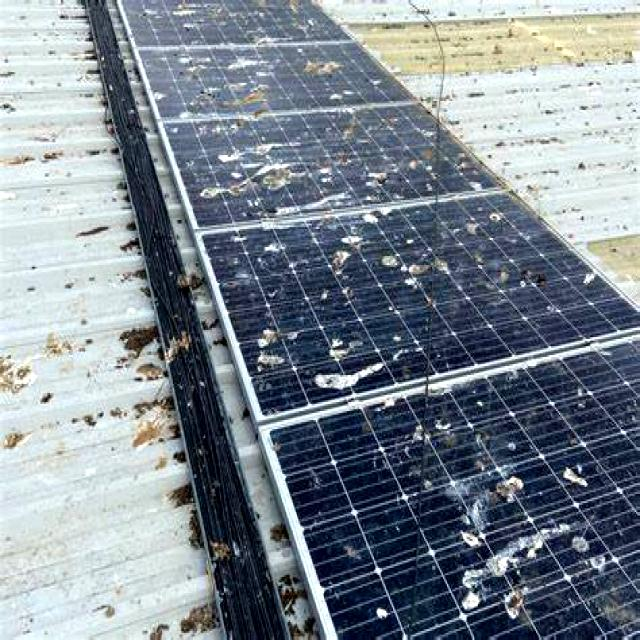bird: (454, 514, 547, 636), (304, 332, 396, 400), (210, 131, 304, 189), (188, 54, 270, 118), (383, 239, 461, 303), (327, 218, 375, 300), (256, 306, 294, 396), (296, 33, 346, 92), (562, 515, 613, 568), (410, 404, 458, 455), (360, 592, 418, 632), (356, 152, 407, 196), (490, 455, 524, 518), (558, 434, 593, 492), (511, 252, 547, 308), (444, 516, 454, 534)
